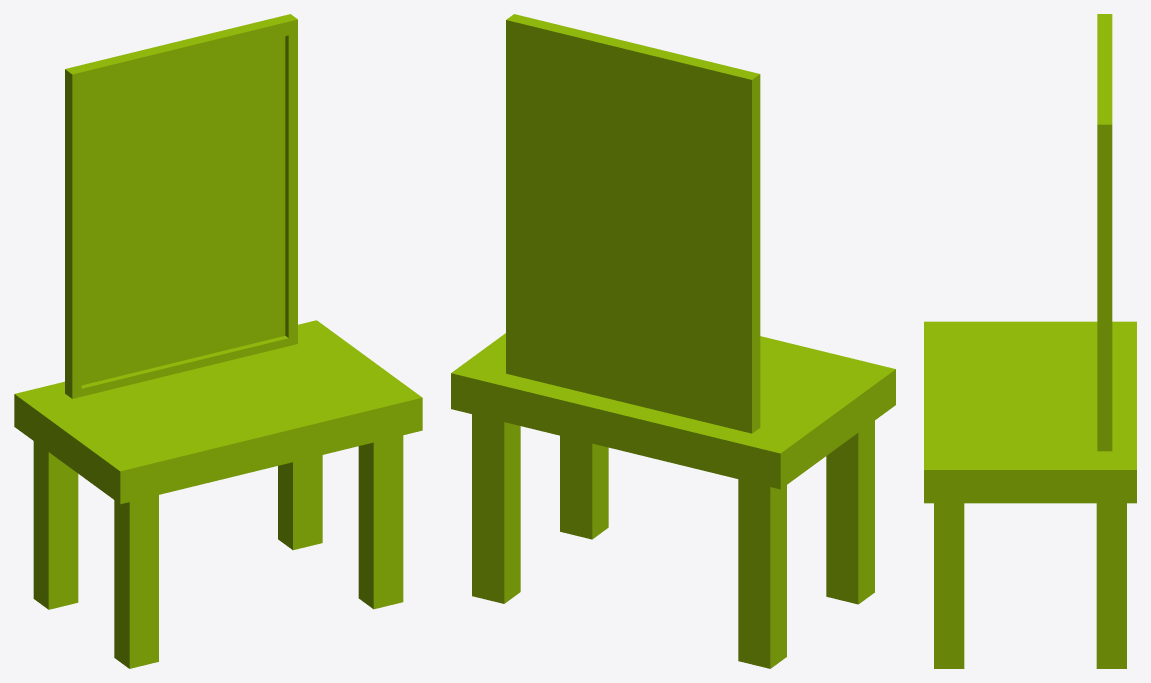
The model's file is зерколо.obj.
3 renders of one model, left to right at view 1: azimuth 30°, elevation 25°; view 2: azimuth 150°, elevation 25°; view 3: azimuth 270°, elevation 25°, orthographic. The views are drawn at different scales.
Parts seen in each view (by area): view 1: Cube.002; view 2: Cube.002; view 3: Cube.002.
Part boxes in pixels (bbox=[...]): Cube.002: bbox=[14, 14, 422, 668]; Cube.002: bbox=[451, 14, 895, 668]; Cube.002: bbox=[924, 14, 1136, 668].
Bounding box in the file's own units: 3.3 × 5.52 × 2.
